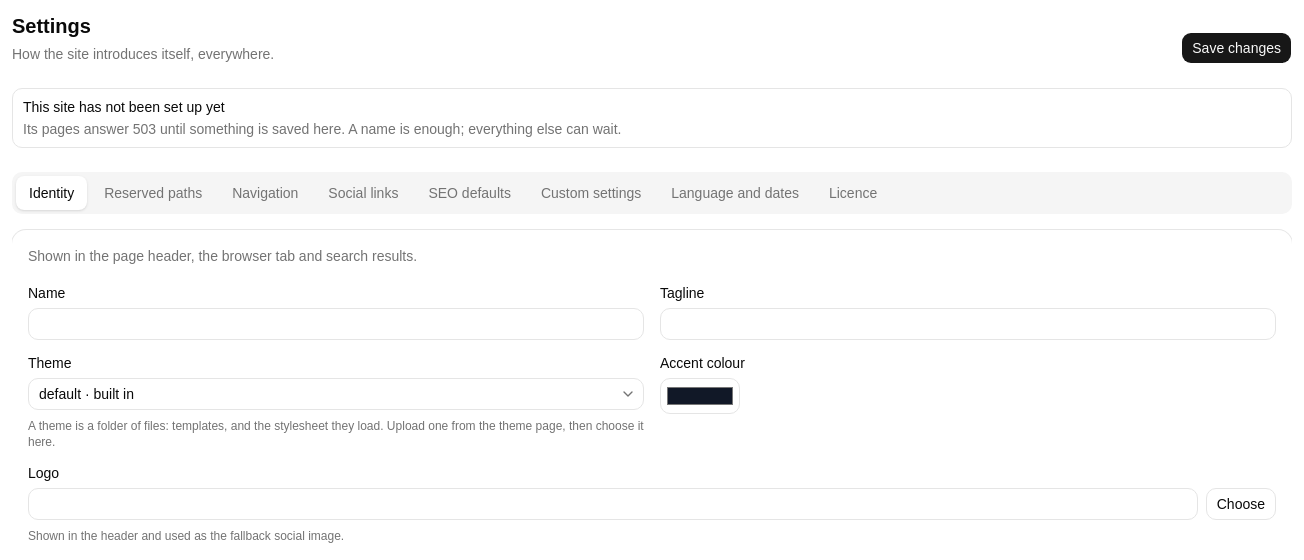
Test: a deployment that has not been set up yet › stops saying so once it has been saved
Step 1. Type "My site" into the field labelled "Name" → point(336, 324), box [28,308,644,340]
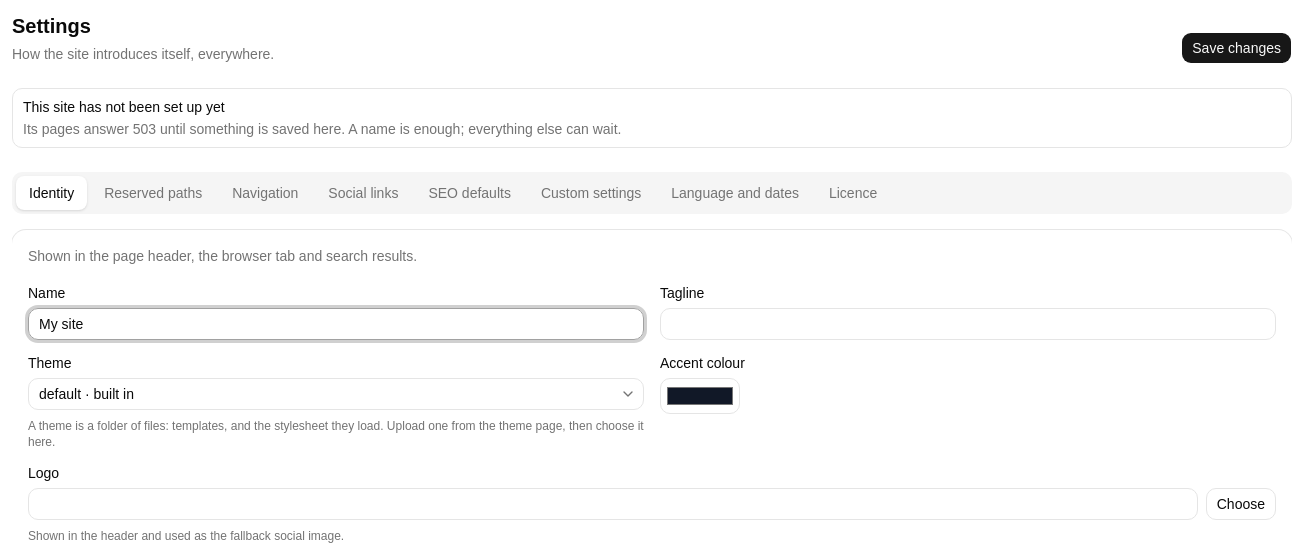
Step 2. Click the button "Save changes" → point(1237, 48), box [1181,32,1292,64]
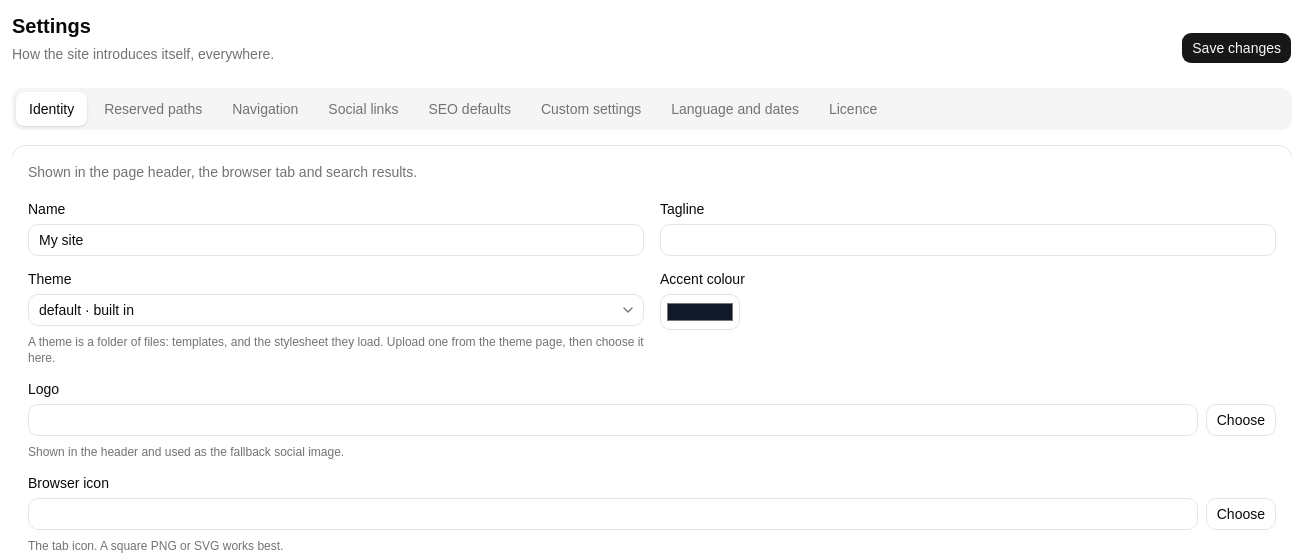
Check: the text "This site has not been set up yet" is gone
